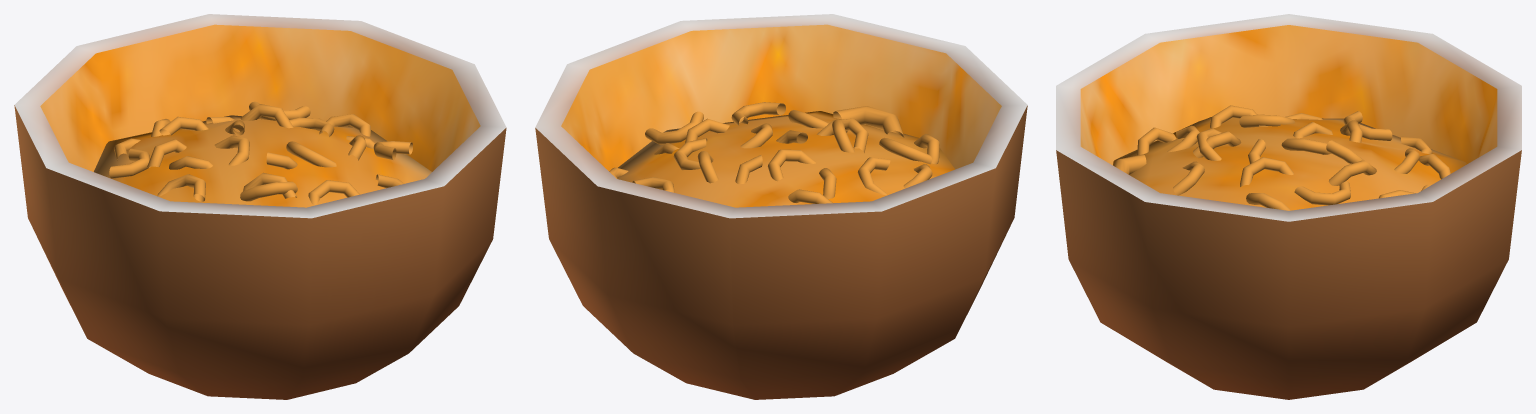
Rendered from H_Bowl_maccheese.fbx.
3 renders of one model, left to right at view 1: azimuth 30°, elevation 25°; view 2: azimuth 150°, elevation 25°; view 3: azimuth 270°, elevation 25°, orthographic.
Visible parts, largest first — view 1: BowlSorbet.002; view 2: BowlSorbet.002; view 3: BowlSorbet.002.
Boxes of the visible parts, box(x1,y1,x2,y2) form: BowlSorbet.002: box(14, 14, 506, 399); BowlSorbet.002: box(535, 14, 1027, 399); BowlSorbet.002: box(1056, 14, 1521, 399).
Size of the model in its own units: 27.48 by 14.16 by 26.14.
